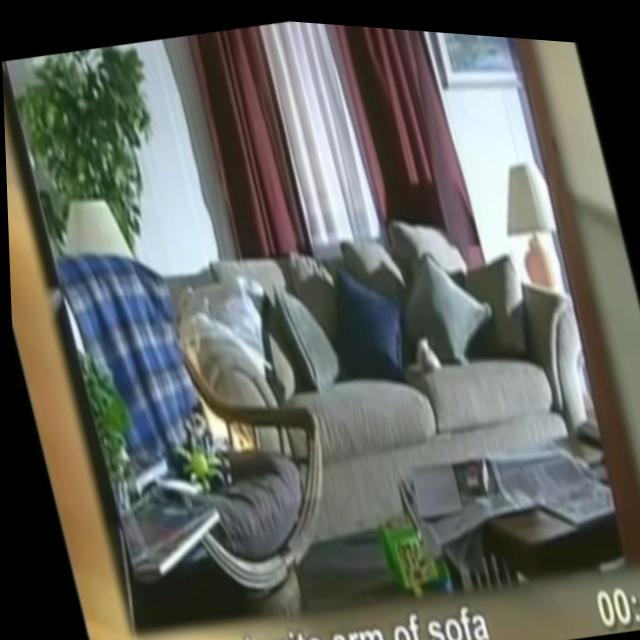fire: (181, 338, 251, 460)
